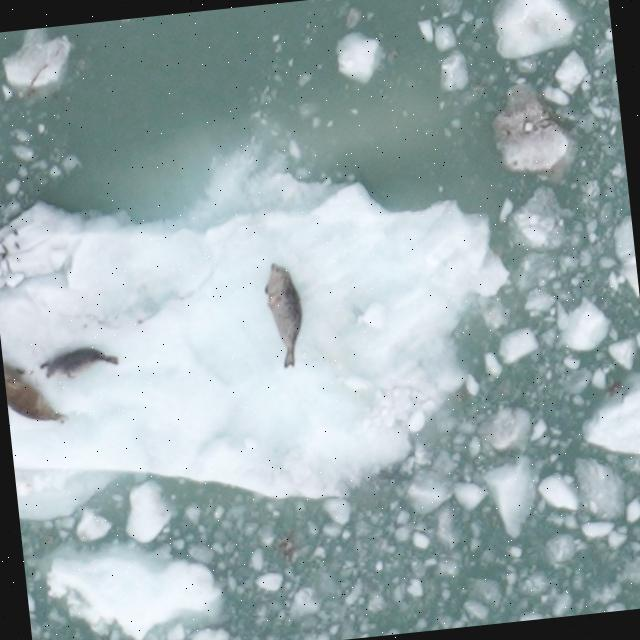seal: (256, 256, 310, 370), (3, 345, 71, 431), (32, 341, 123, 386)
